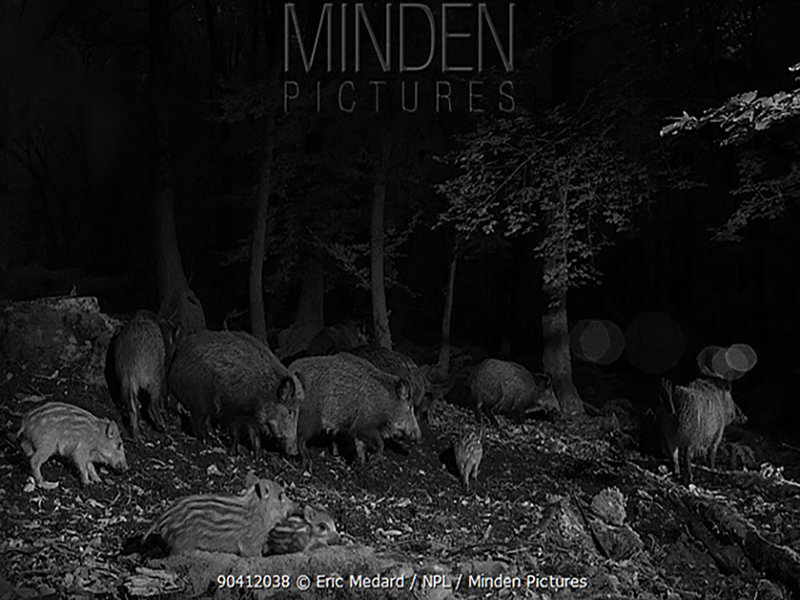cinghiale: (167, 323, 303, 463), (304, 349, 425, 472), (154, 473, 299, 552), (656, 360, 753, 476), (16, 404, 129, 496), (105, 306, 179, 429), (466, 351, 561, 412)
